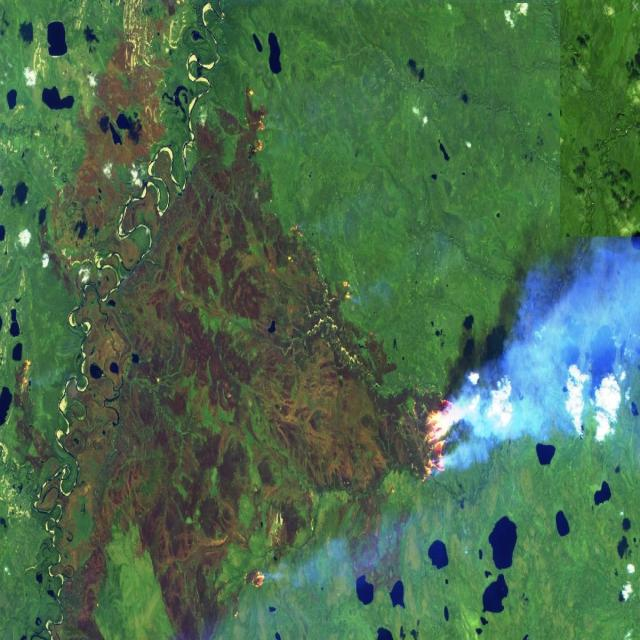fire: (406, 374, 473, 497), (243, 80, 273, 166), (238, 559, 274, 599), (332, 271, 358, 314), (16, 352, 39, 396)
